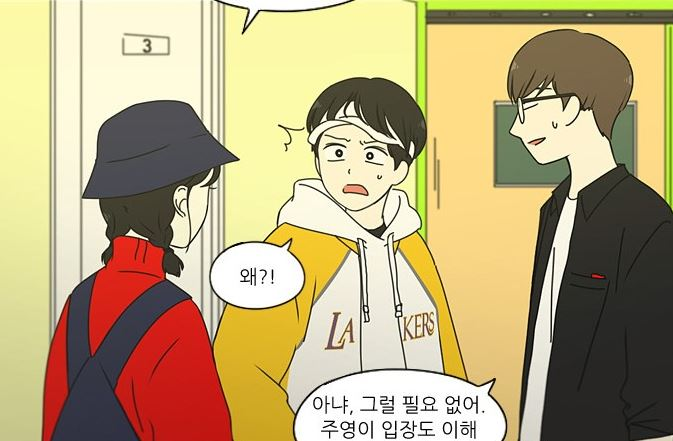hat: (82, 98, 239, 200)
